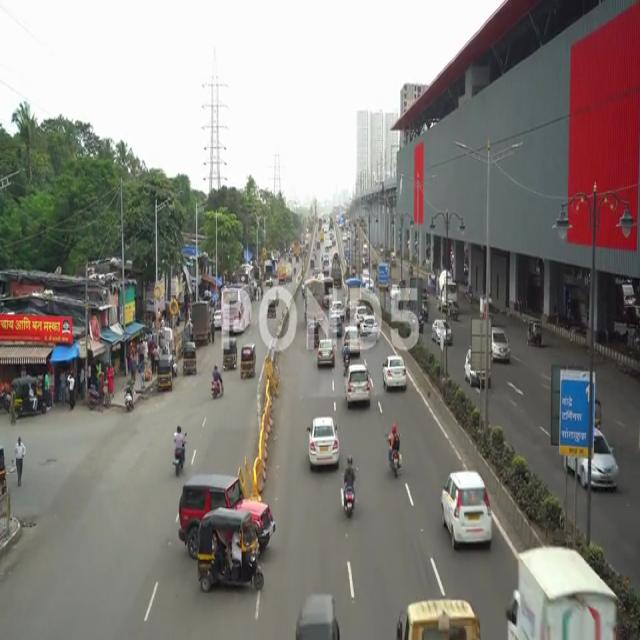car: (439, 471, 495, 557), (304, 414, 341, 473), (594, 431, 624, 500), (343, 361, 375, 406), (386, 358, 409, 397), (491, 324, 513, 364), (316, 334, 336, 370)
motorbike: (384, 418, 406, 483), (344, 451, 362, 524), (173, 413, 187, 477)
person: (11, 433, 25, 488)
rikshaw: (198, 509, 266, 599)
truck: (504, 543, 617, 640)
